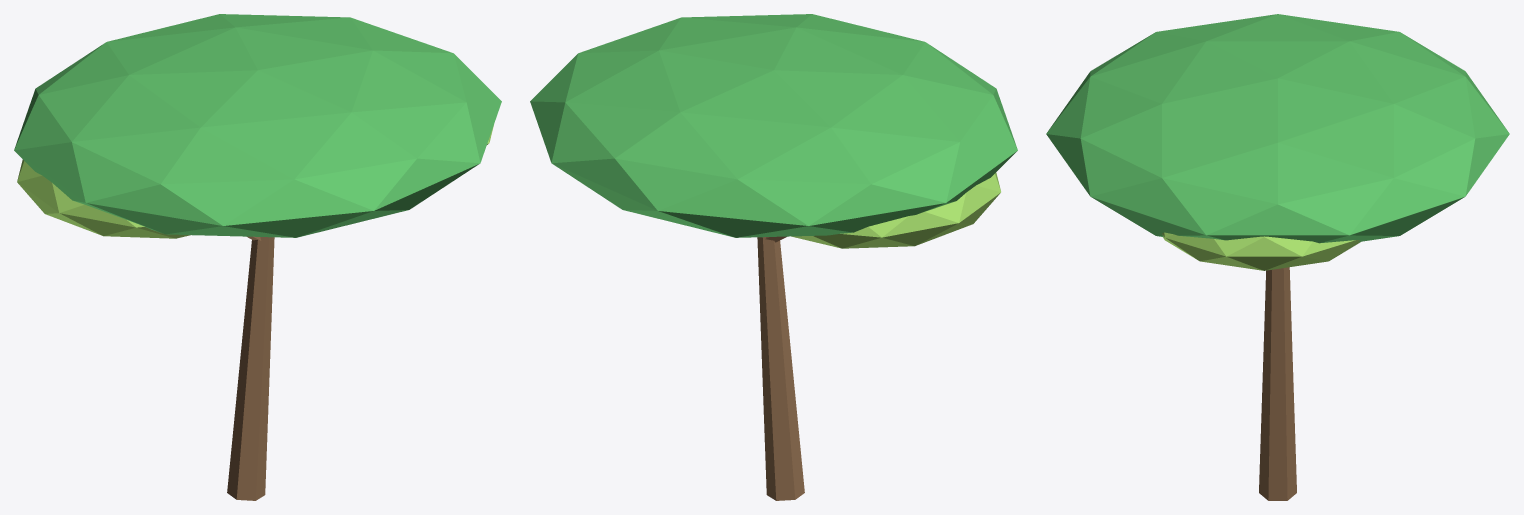
The model's file is Tree_06_Acacia.fbx.
The picture shows the model from 3 angles, left to right: view 1: azimuth 30°, elevation 25°; view 2: azimuth 150°, elevation 25°; view 3: azimuth 270°, elevation 25°; orthographic projection.
Visible parts, largest first — view 1: Tree_06_Acacia; view 2: Tree_06_Acacia; view 3: Tree_06_Acacia.
Part boxes in pixels (x1,y1,x2,y2): Tree_06_Acacia: (14, 14, 501, 500); Tree_06_Acacia: (530, 14, 1017, 500); Tree_06_Acacia: (1046, 14, 1509, 500).
Bounding box in the file's own units: 7.21 × 6.82 × 6.8.
